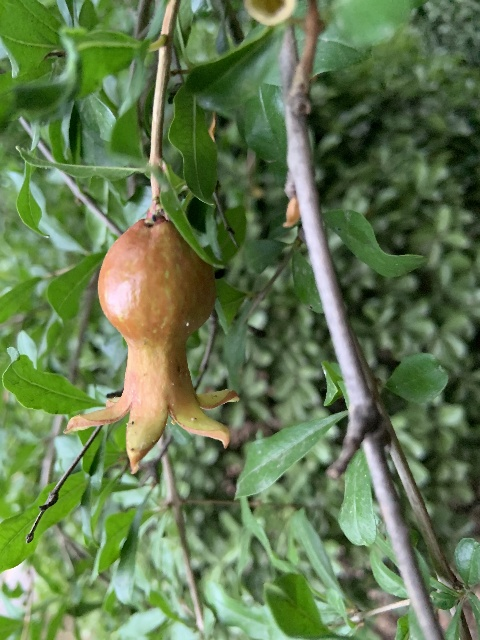early-fruit: (67, 217, 239, 472)
